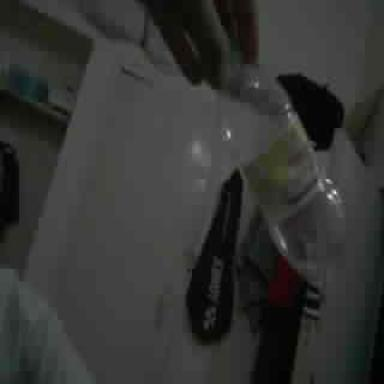bottle: (221, 51, 343, 288)
